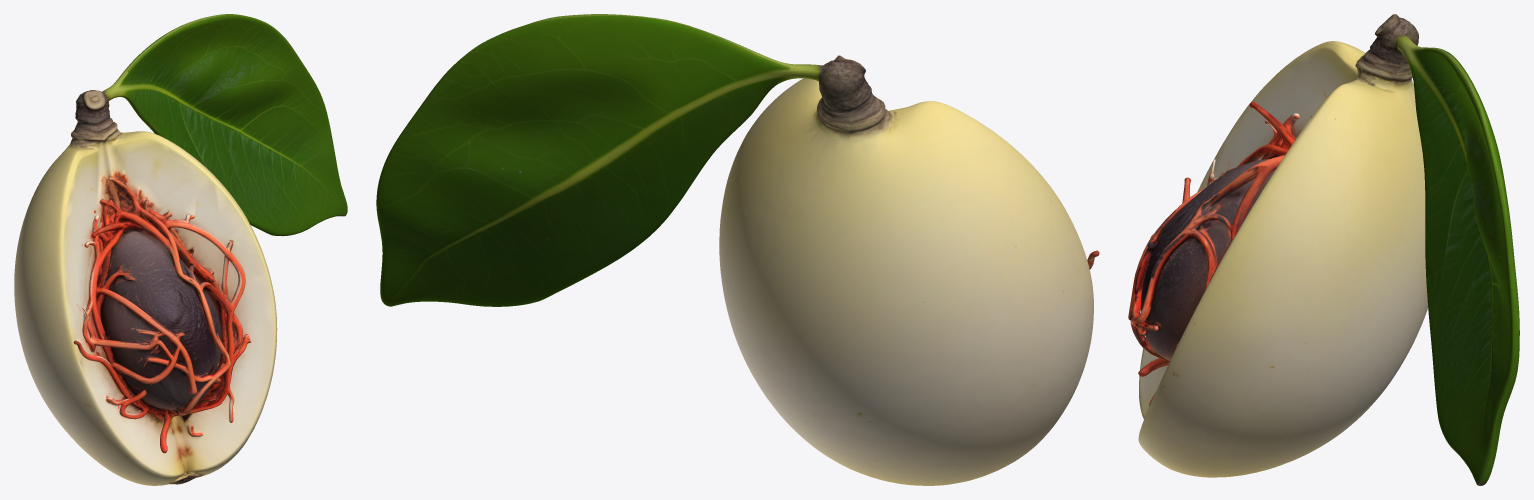
File: roudoukou.glb
3 renders of one model, left to right at view 1: azimuth 30°, elevation 25°; view 2: azimuth 150°, elevation 25°; view 3: azimuth 270°, elevation 25°, orthographic. The views are drawn at different scales.
Parts seen in each view (by area): view 1: node_0; view 2: node_0; view 3: node_0.
Boxes of the visible parts, bbox=[...] form: node_0: bbox=[14, 14, 347, 485]; node_0: bbox=[376, 14, 1099, 485]; node_0: bbox=[1128, 14, 1519, 485].
Size of the model in its own units: 1.03 by 0.886 by 0.6742.
Materials: 1 (1 with a texture image).
